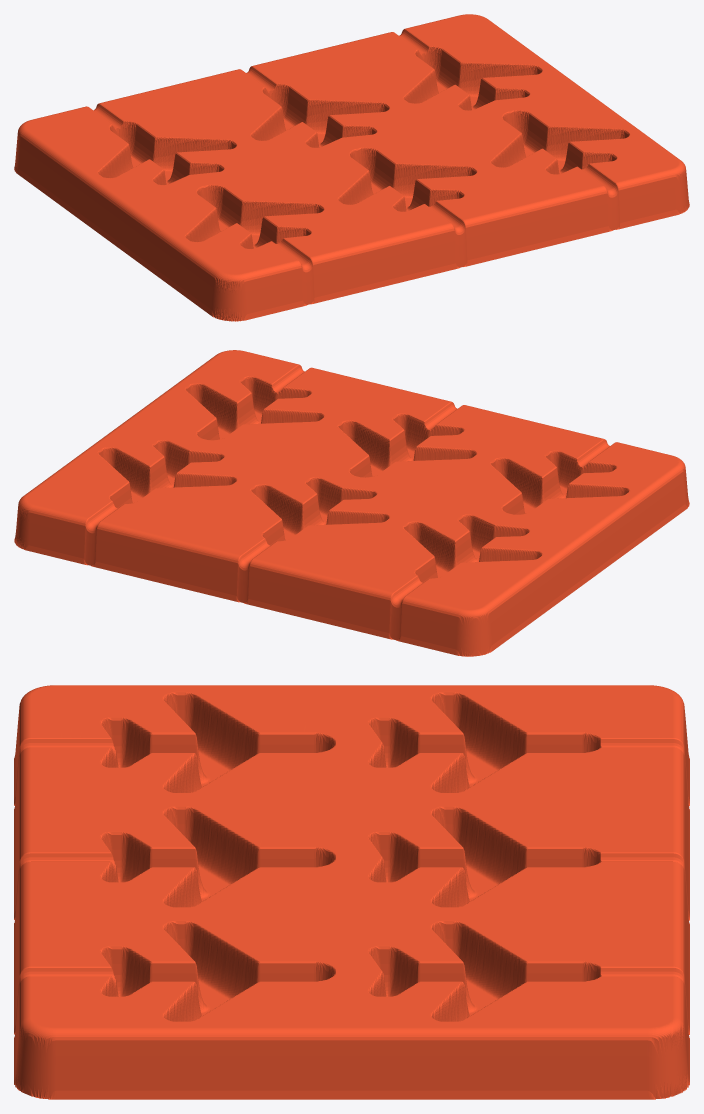
File: mold.glb
3 renders of one model, top to bottom at view 1: azimuth 30°, elevation 25°; view 2: azimuth 150°, elevation 25°; view 3: azimuth 270°, elevation 25°, orthographic. The views are drawn at different scales.
Visible parts, largest first — view 1: geometry_0; view 2: geometry_0; view 3: geometry_0.
Part boxes in pixels (left/top/right/bottom): geometry_0: left=14, top=14, right=689, bottom=321; geometry_0: left=14, top=350, right=689, bottom=656; geometry_0: left=14, top=685, right=689, bottom=1099.
Size of the model in its own units: 0.1824 by 0.0155 by 0.1465.
